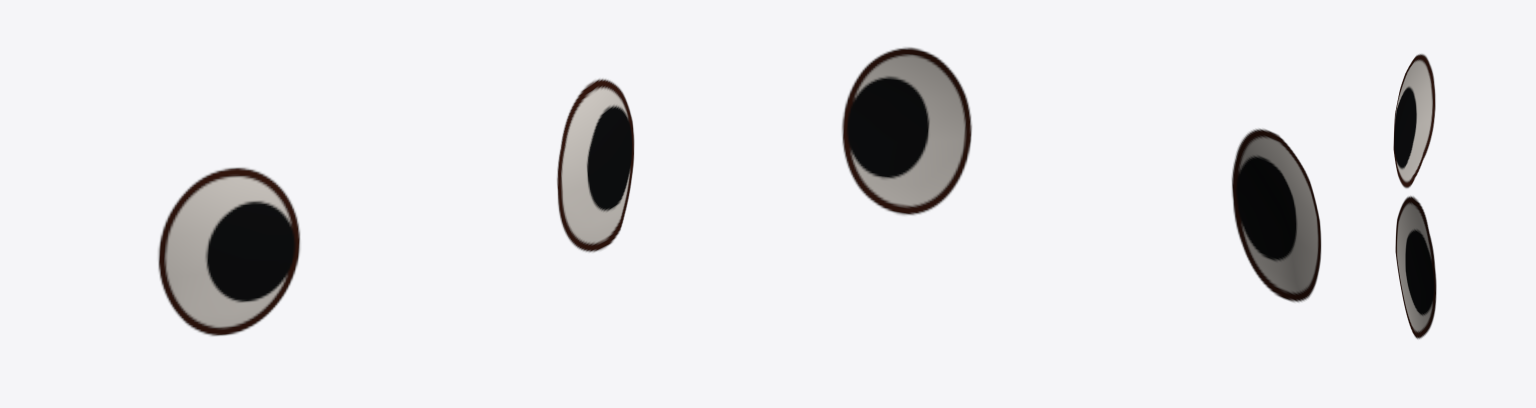
Rendered from eye 03.glb.
3 renders of one model, left to right at view 1: azimuth 30°, elevation 25°; view 2: azimuth 150°, elevation 25°; view 3: azimuth 270°, elevation 25°, orthographic. The views are drawn at different scales.
Visible parts, largest first — view 1: Eye_3; view 2: Eye_3; view 3: Eye_3.
Boxes of the visible parts, bbox=[...] form: Eye_3: bbox=[158, 78, 634, 336]; Eye_3: bbox=[841, 47, 1321, 302]; Eye_3: bbox=[1393, 53, 1436, 339].
Size of the model in its own units: 0.00677 by 0.00271 by 0.00151.
1 material, 1 textured.
